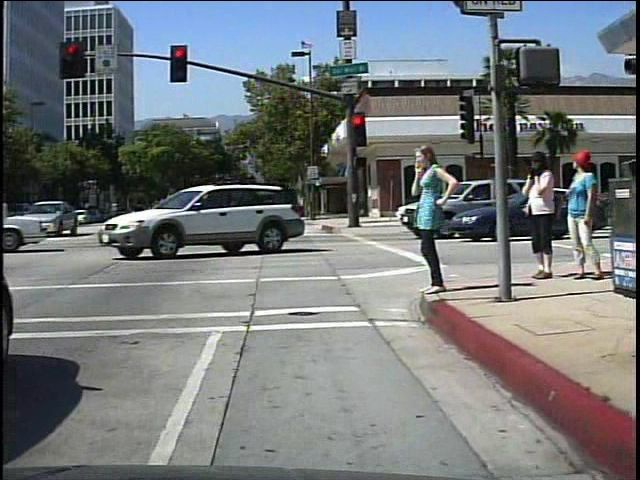person: (406, 141, 456, 300), (559, 146, 603, 282), (515, 148, 559, 284)
